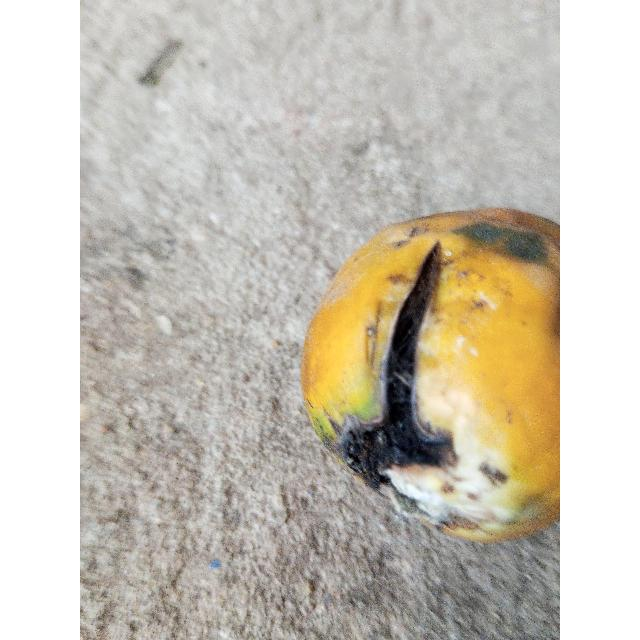damaged: (302, 208, 560, 541)
